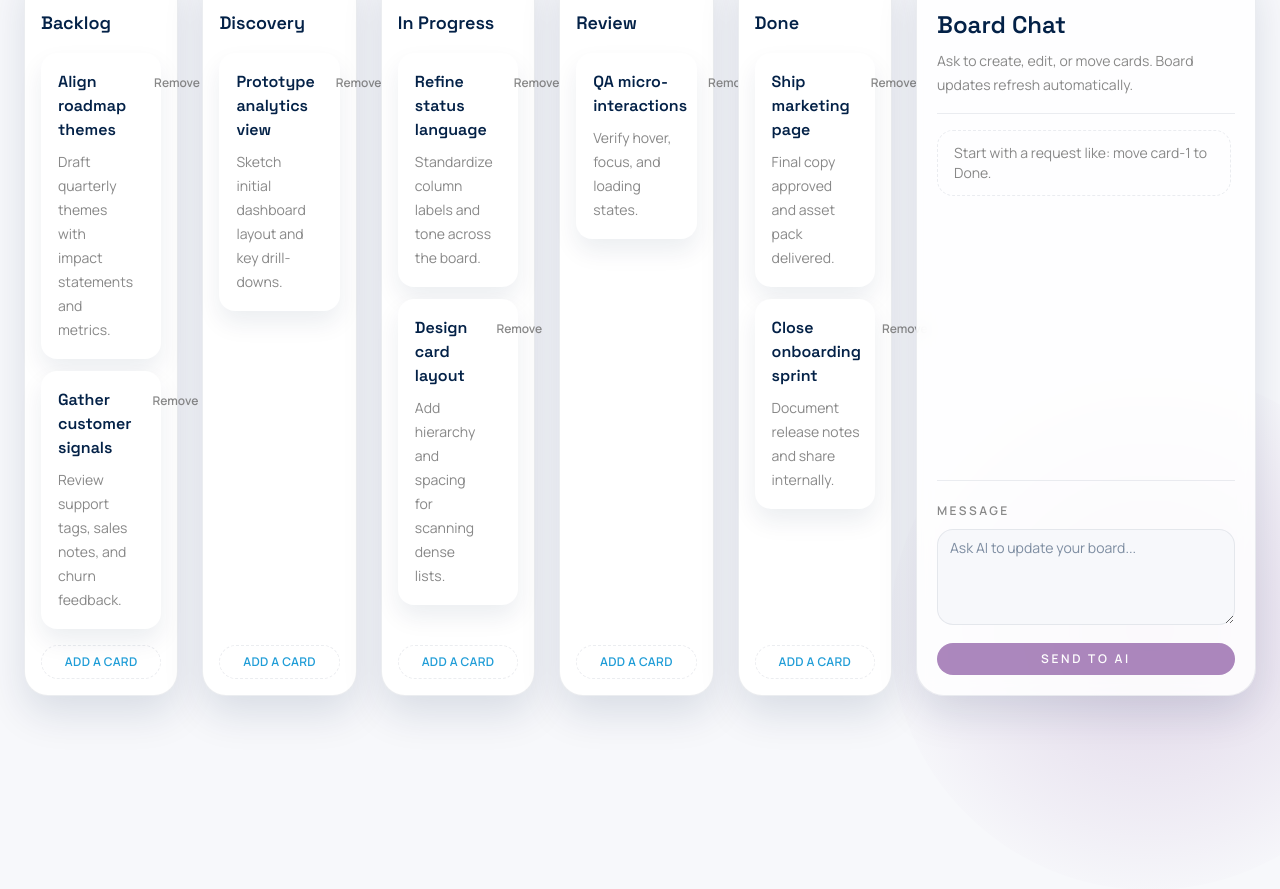
Test: KanbanBoard › applies board update returned by AI chat
(page scrolled)
Type "Rename card 1" into the text box labelled "Message" at coordinates (1086, 577), box [937,529,1235,625]
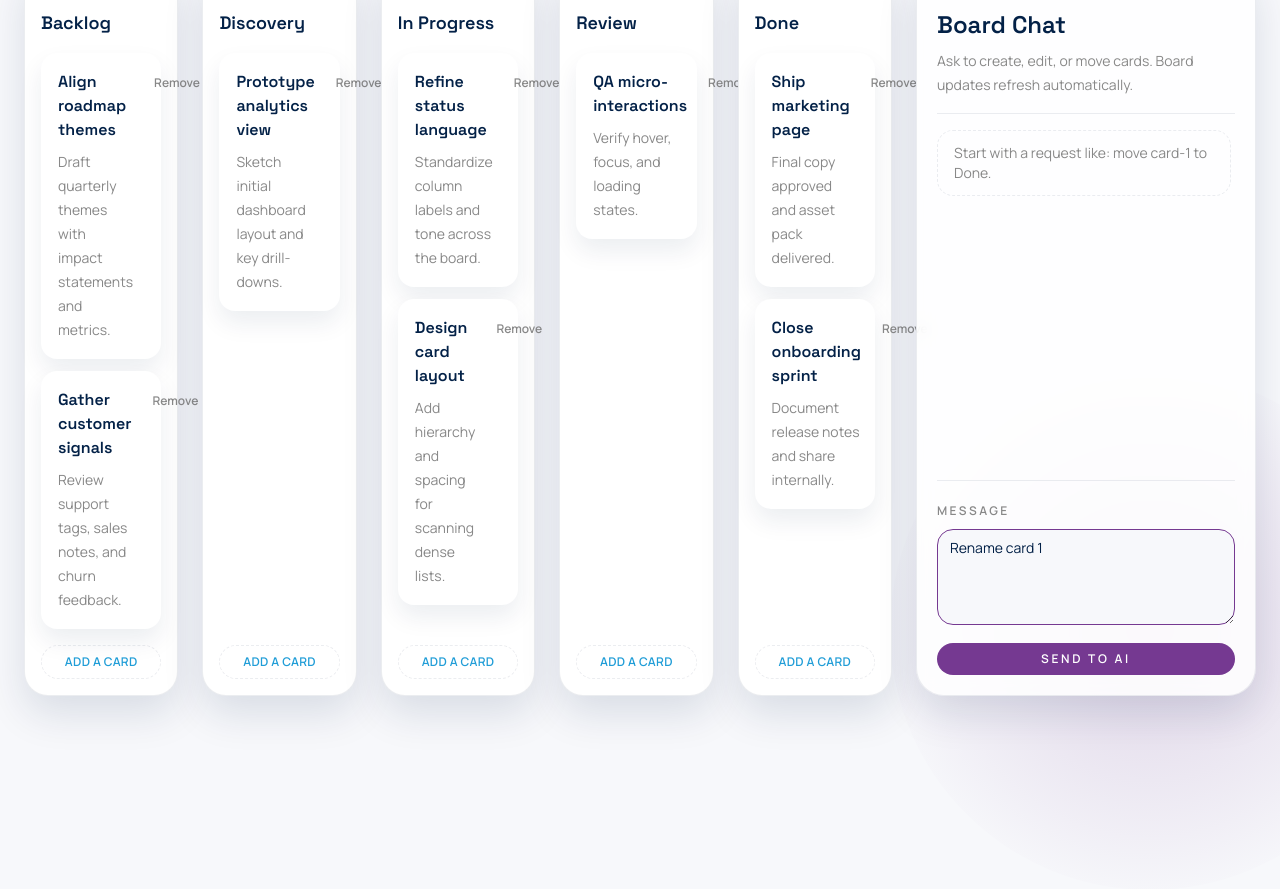
Click the button "Send to AI" at coordinates (1086, 659), box [937,643,1235,675]
(page scrolled)
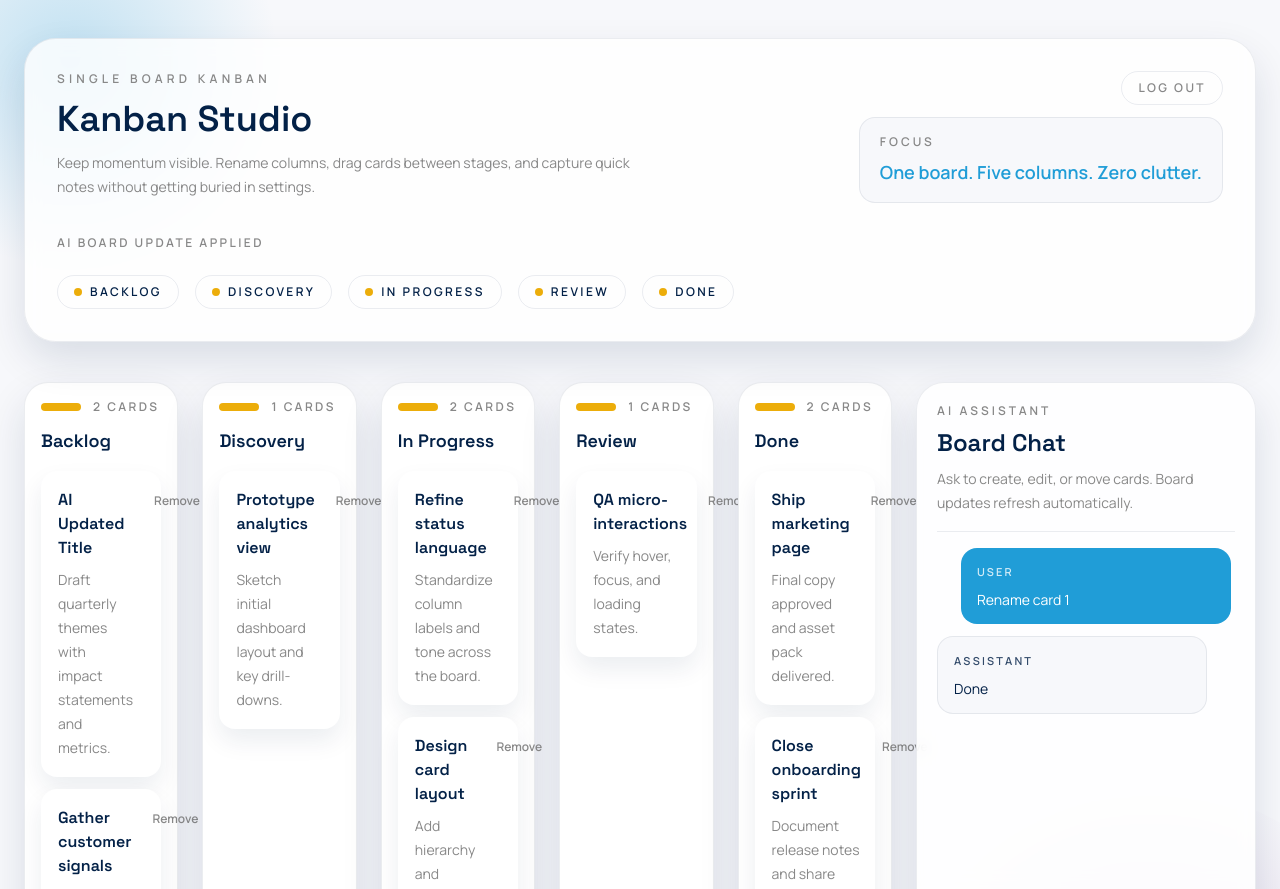
Expected: the heading "AI Updated Title" is shown, [58,488,133,560]
Expected: the text "AI board update applied" is shown, [57,235,264,251]
